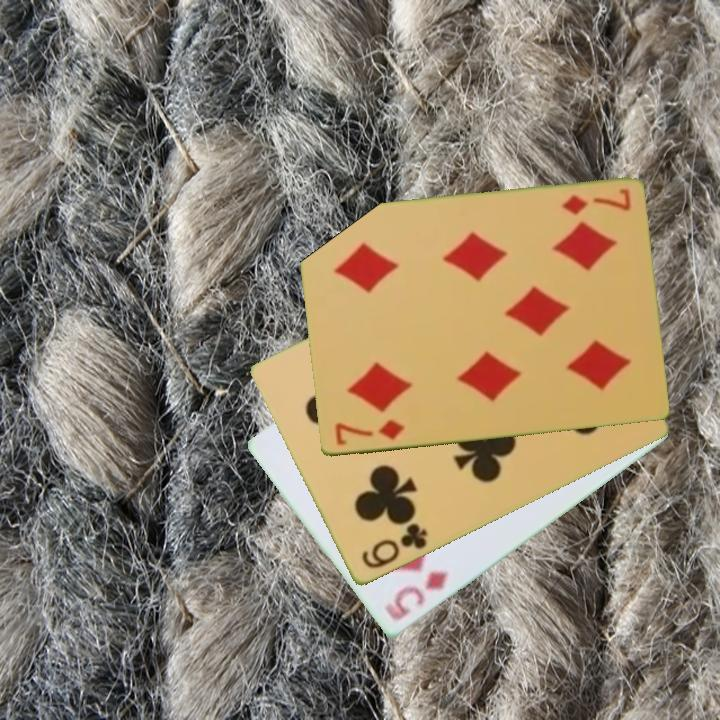5d: (381, 568, 452, 624)
6c: (358, 520, 430, 573)
7d: (331, 416, 407, 449), (558, 185, 634, 218)
